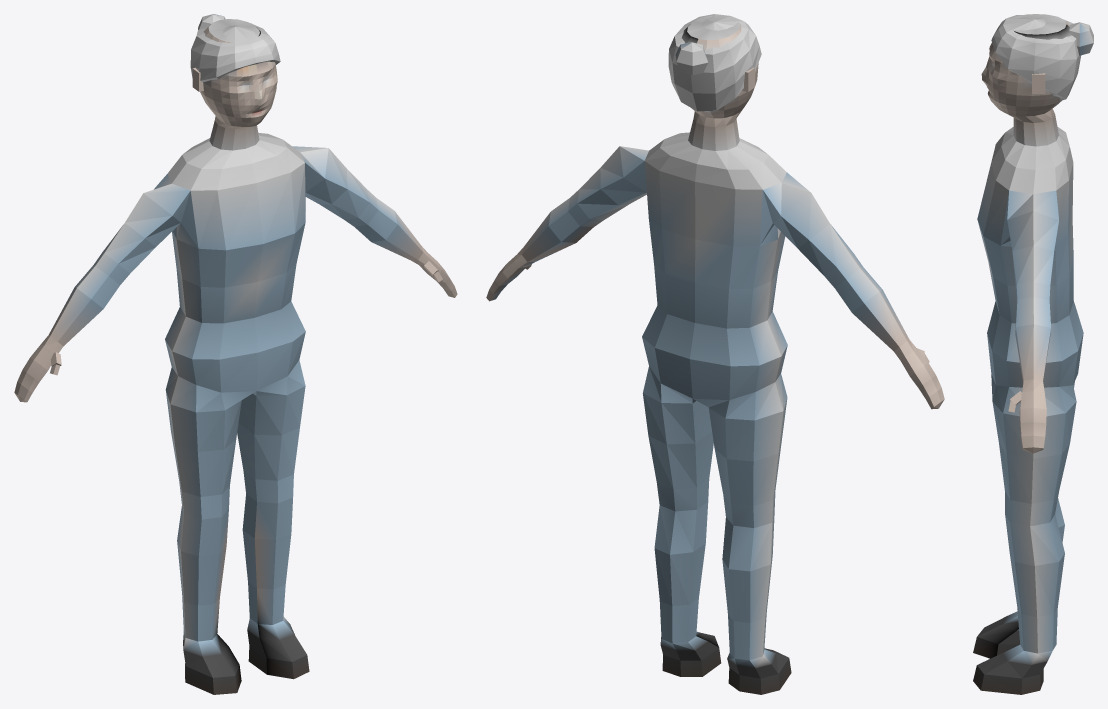
Rendered from char__pessoa__piloto_m07.glb.
3 views of the same model, side by side, from view 1: azimuth 30°, elevation 25°; view 2: azimuth 150°, elevation 25°; view 3: azimuth 270°, elevation 25° (orthographic). The views are drawn at different scales.
Parts seen in each view (by area): view 1: char__pessoa__piloto_m07; view 2: char__pessoa__piloto_m07; view 3: char__pessoa__piloto_m07.
Part boxes in pixels (x1,y1,x2,y2): char__pessoa__piloto_m07: [14, 14, 457, 694]; char__pessoa__piloto_m07: [486, 14, 944, 694]; char__pessoa__piloto_m07: [973, 14, 1093, 694].
Bounding box in the file's own units: 1.12 × 1.58 × 0.2653.
